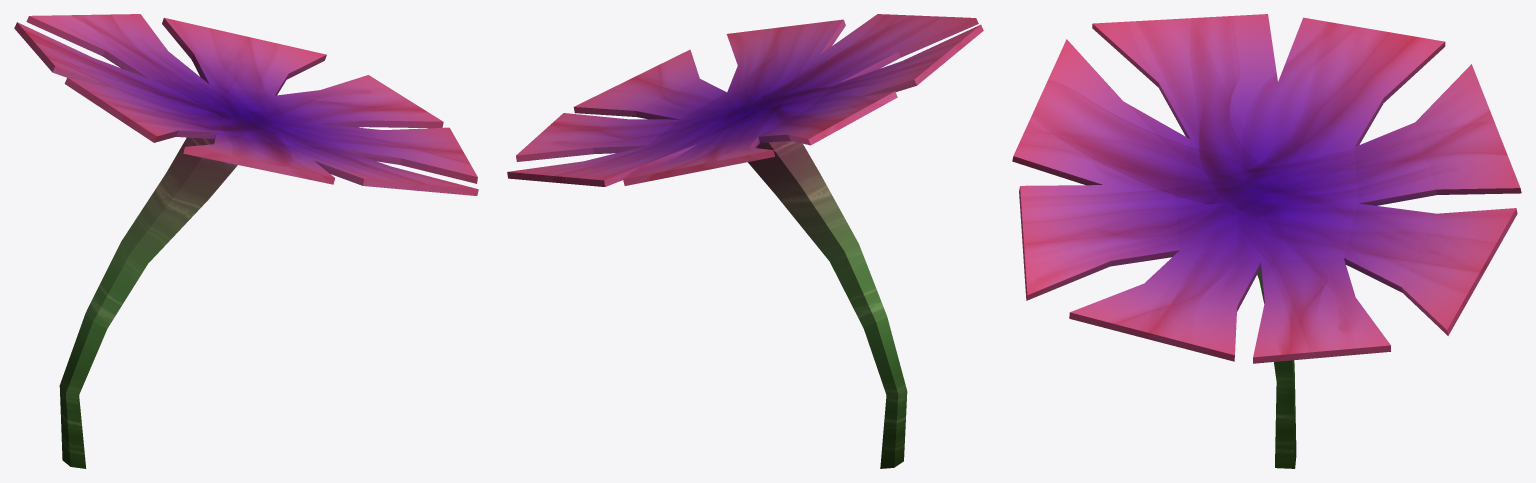
The model's file is GiantFlower003.fbx.
The picture shows the model from 3 angles, left to right: view 1: azimuth 30°, elevation 25°; view 2: azimuth 150°, elevation 25°; view 3: azimuth 270°, elevation 25°; orthographic projection. The views are drawn at different scales.
Visible parts, largest first — view 1: GiantFlower003; view 2: GiantFlower003; view 3: GiantFlower003.
Boxes of the visible parts, <box> form: GiantFlower003: <box>14,14,478,468</box>; GiantFlower003: <box>507,14,983,468</box>; GiantFlower003: <box>1012,14,1521,468</box>.
Bounding box in the file's own units: 16.83 × 17.26 × 18.01.
